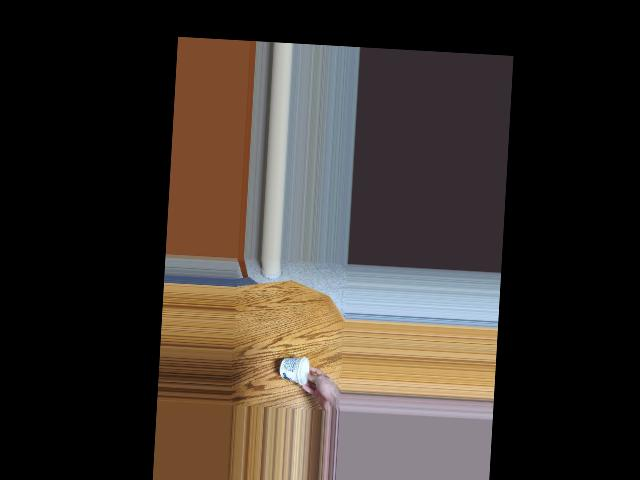cotage: (281, 361, 312, 385)
